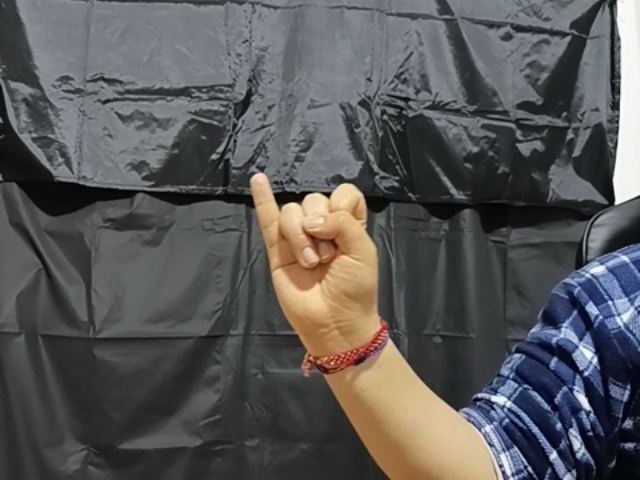I: (245, 173, 399, 341)
